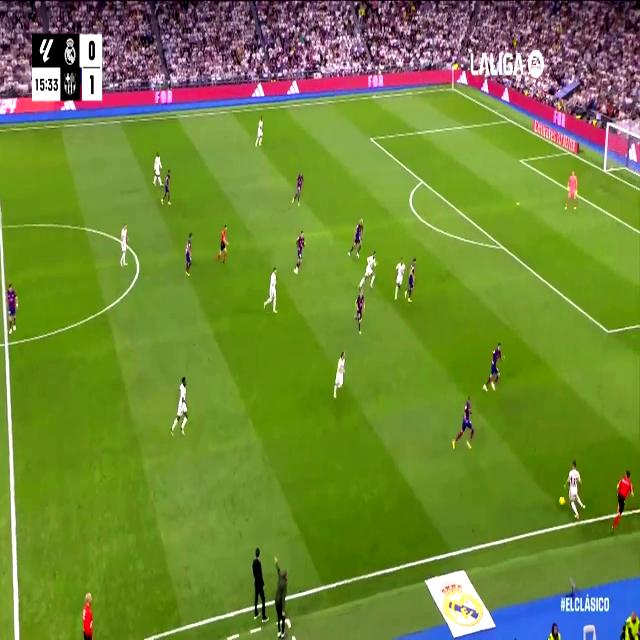bigarea_bottom_inner: (603, 319, 613, 342)
bigarea_top_inner: (368, 130, 374, 146)
bigarea_top_outter: (506, 113, 512, 124)
bottom_arc_area_intersection: (498, 238, 507, 255)
corner: (448, 82, 456, 93)
halfcircle_bottom: (0, 329, 12, 357)
smallarea_top_inner: (518, 154, 524, 165)
top_arc_area_intersection: (418, 172, 426, 188)
